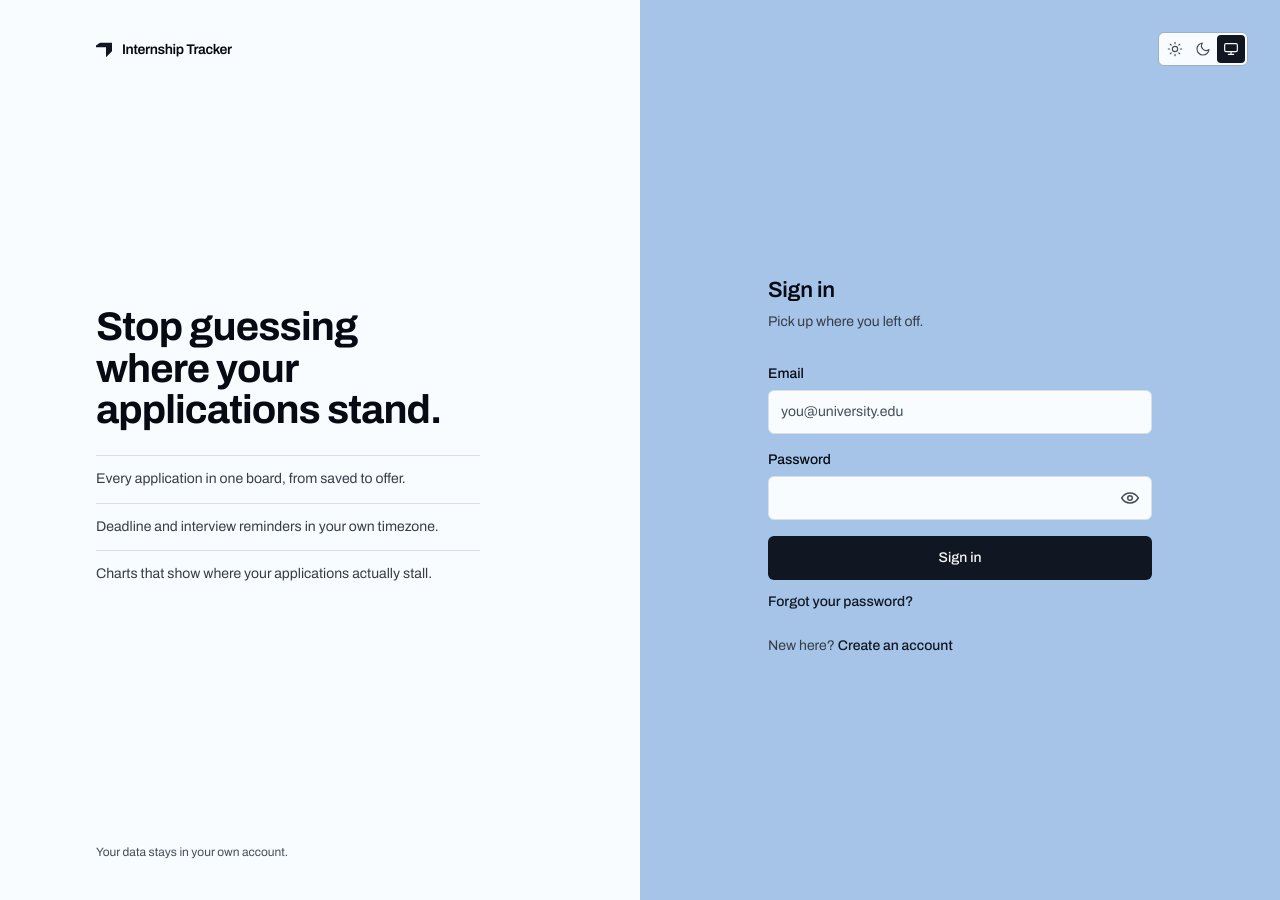
Scenario: signing in to a closed account › shows the 410 message inline once the restore window has ended
expect the button "Sign in" is shown: met, box [768,536,1152,580]
Step 1. Type "ada@example.test" into the field labelled "Email" → (960, 412), box [768,390,1152,434]
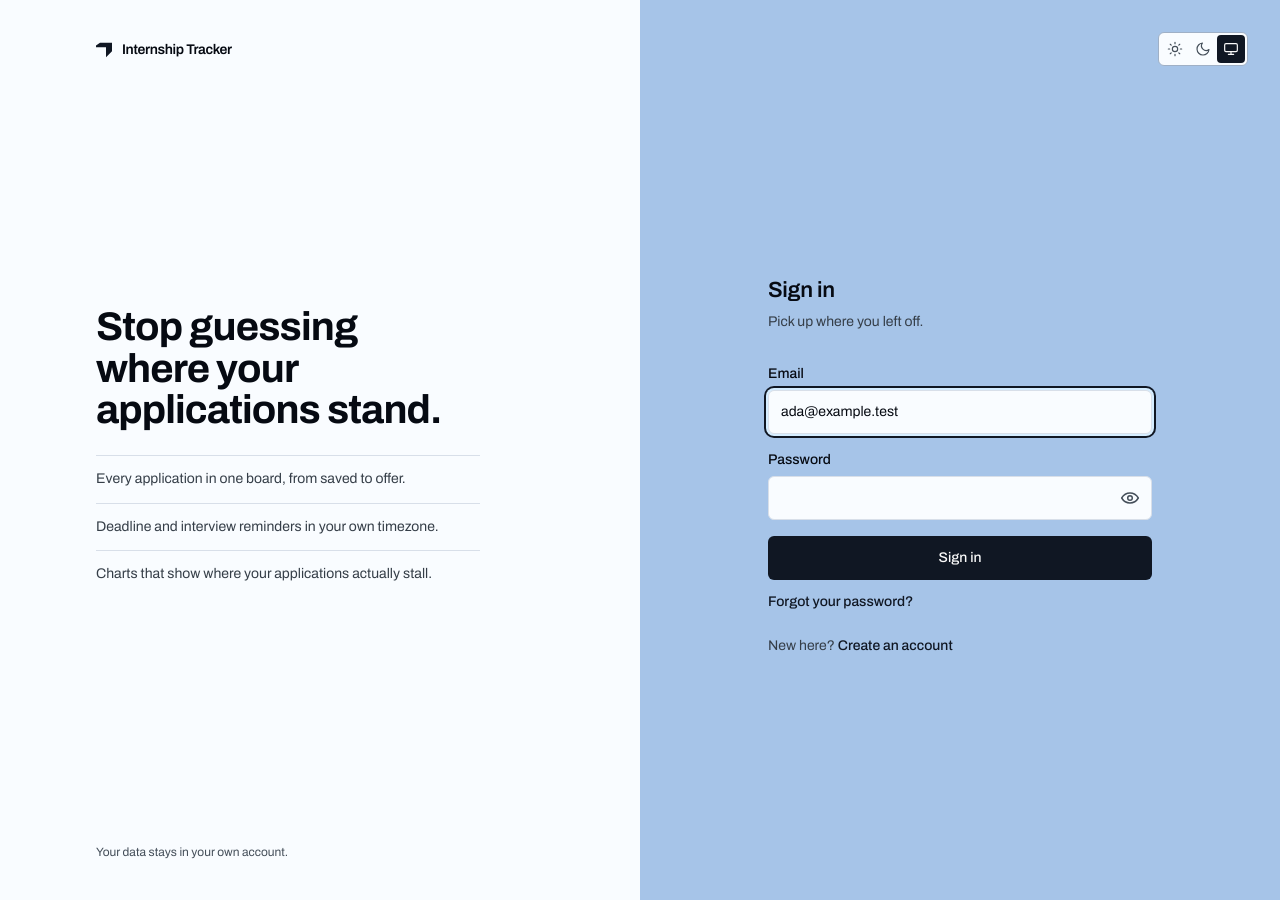
Step 2. Type "Password1" into the password field labelled "Password" → (960, 498), box [768,476,1152,520]
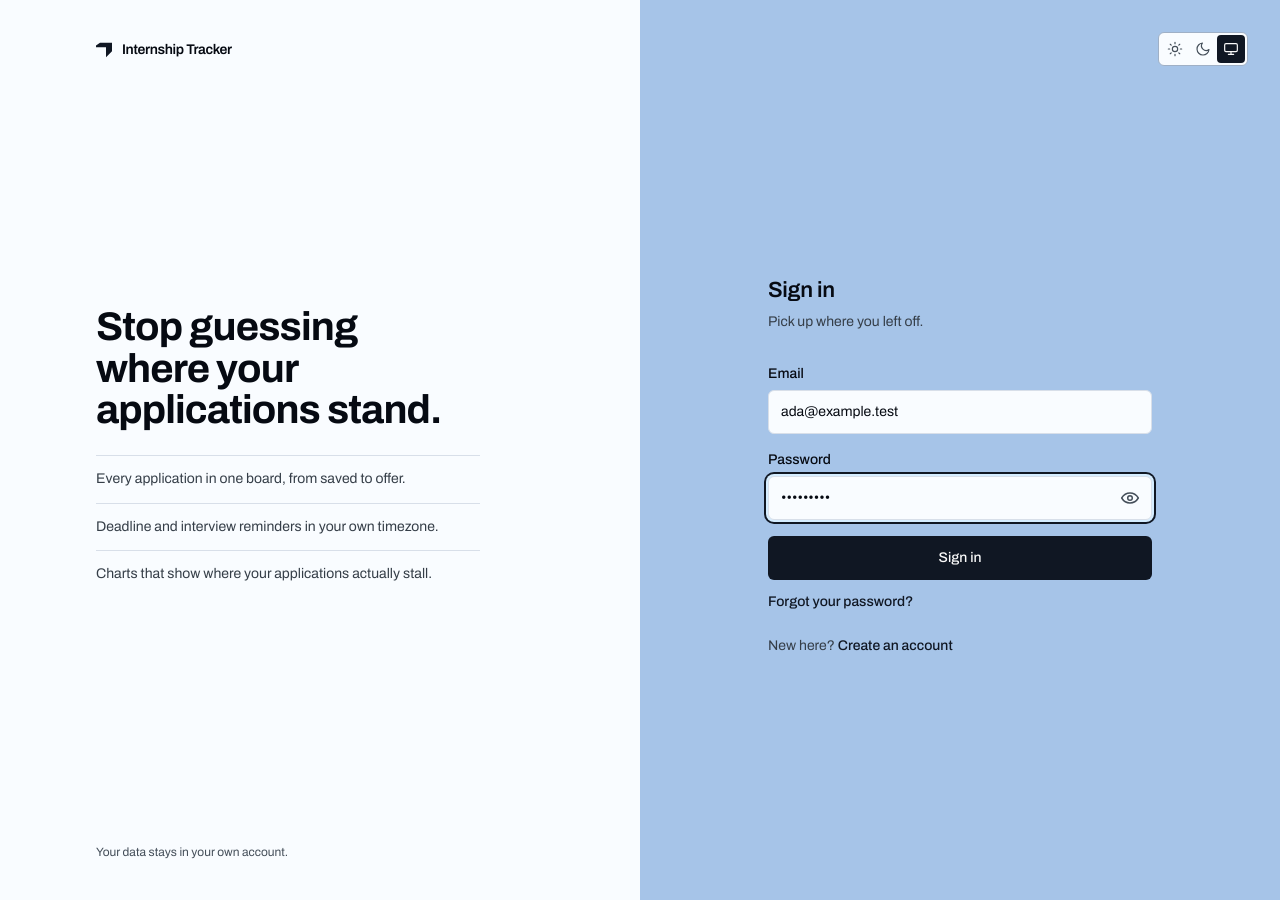
Step 3. Click the button "Sign in" → (960, 558), box [768,536,1152,580]
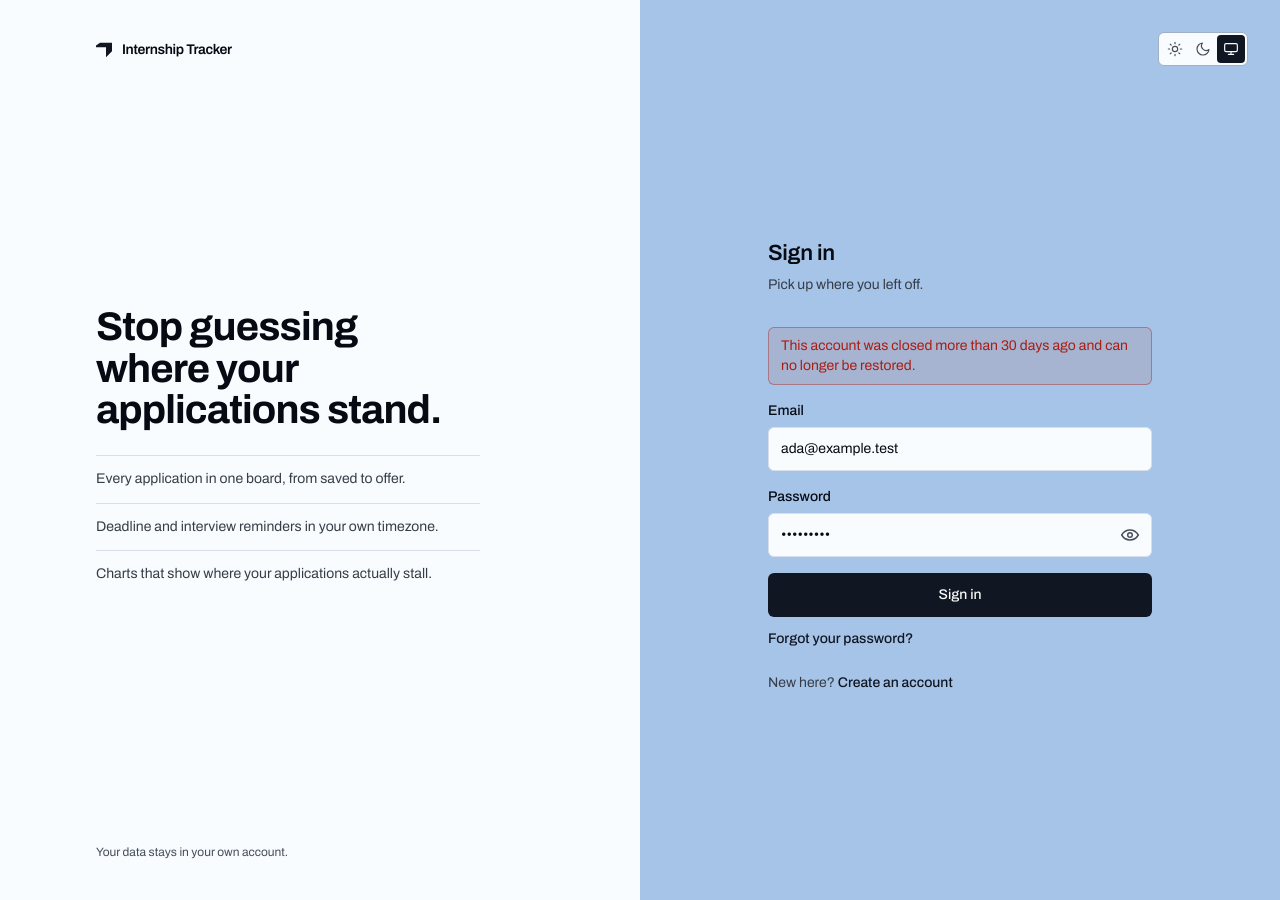
expect the message reads "This account was closed more than 30 days ago and can no longer be restored.": met, box [781,338,1128,373]
